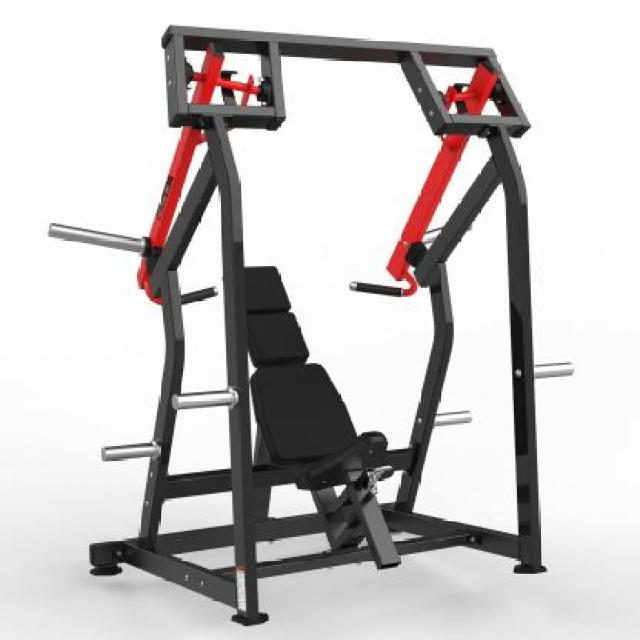shoulder press machine: (52, 28, 570, 626)
